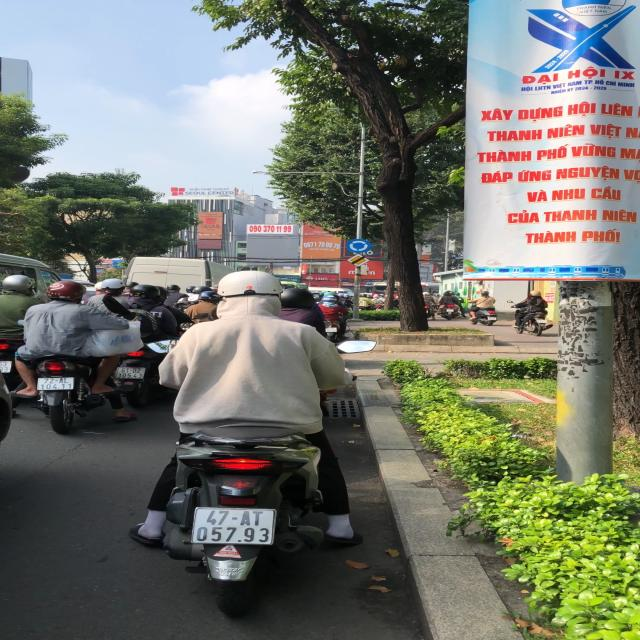Bien bao noi giao nhau chay theo vong xuyen: (342, 237, 372, 253)
